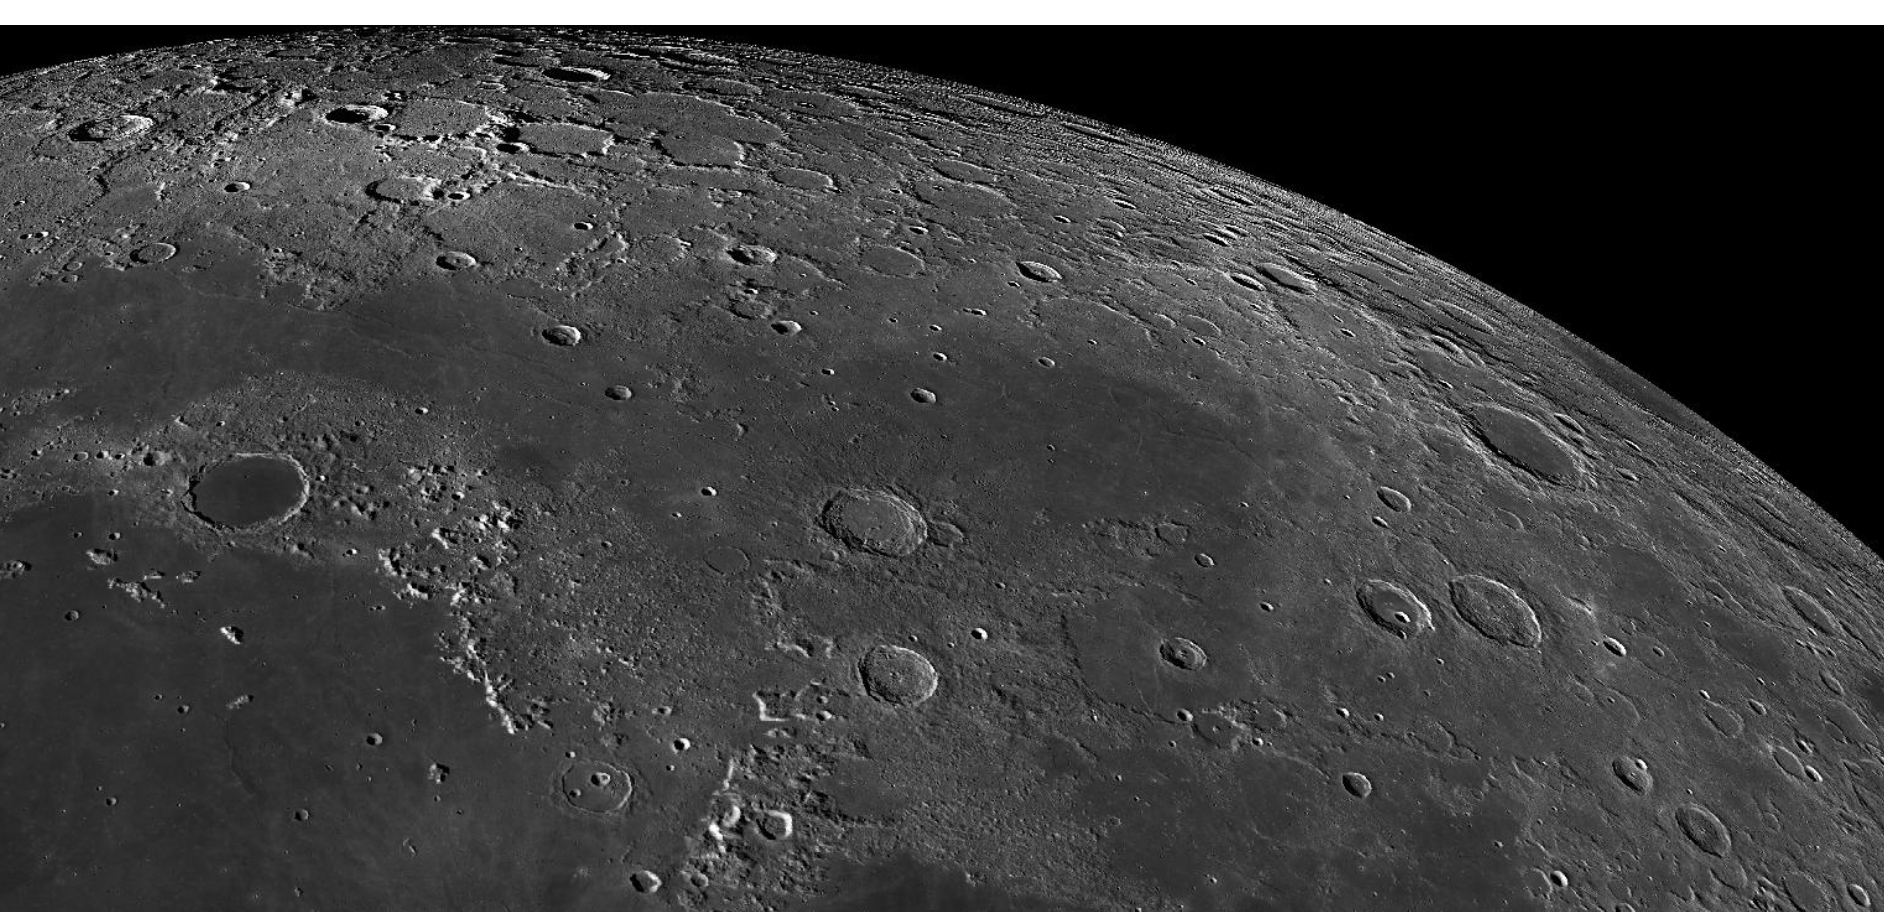crater: (1433, 374, 1614, 526), (172, 433, 324, 552), (794, 472, 935, 577), (1438, 572, 1566, 664), (846, 630, 950, 722), (545, 741, 646, 824), (475, 306, 618, 358), (1168, 702, 1276, 769), (843, 230, 938, 303), (1351, 577, 1445, 648), (60, 100, 168, 157), (1669, 798, 1749, 870), (1012, 344, 1090, 410), (318, 707, 412, 758), (527, 52, 628, 99), (586, 360, 661, 421), (1145, 632, 1220, 680), (694, 535, 758, 585), (1328, 762, 1394, 810), (898, 378, 954, 424), (121, 236, 191, 272), (427, 244, 482, 278), (1186, 541, 1228, 574)
